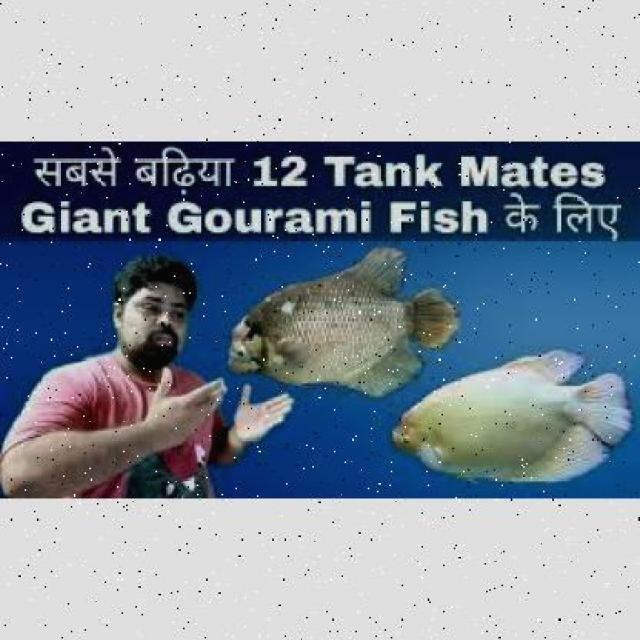gurame: (386, 342, 624, 482), (226, 248, 457, 390)
